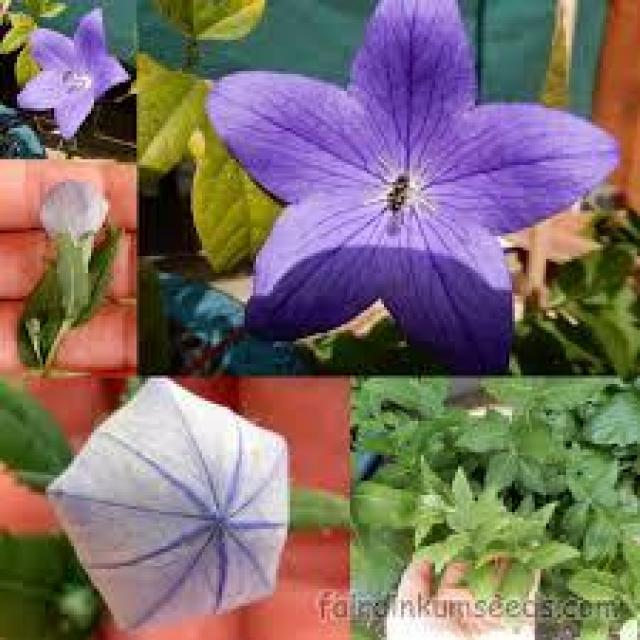organic waste: (192, 2, 616, 366), (54, 377, 299, 627), (22, 9, 126, 140), (40, 178, 114, 323)
